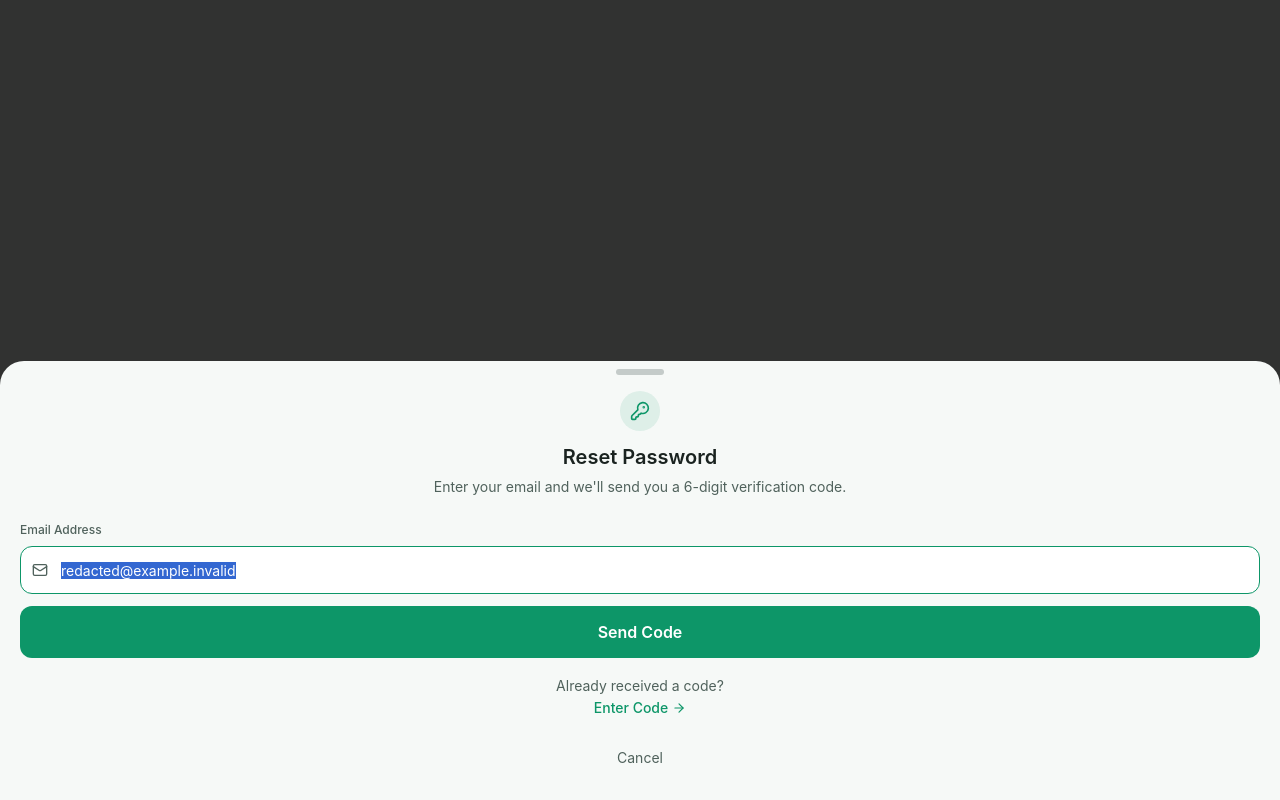
it: ForgotPasswordDialog — initial Send Code › advances to the code step and starts the cooldown on success
Click the button "Send Code".
click(640, 632)  # box [20,606,1260,658]
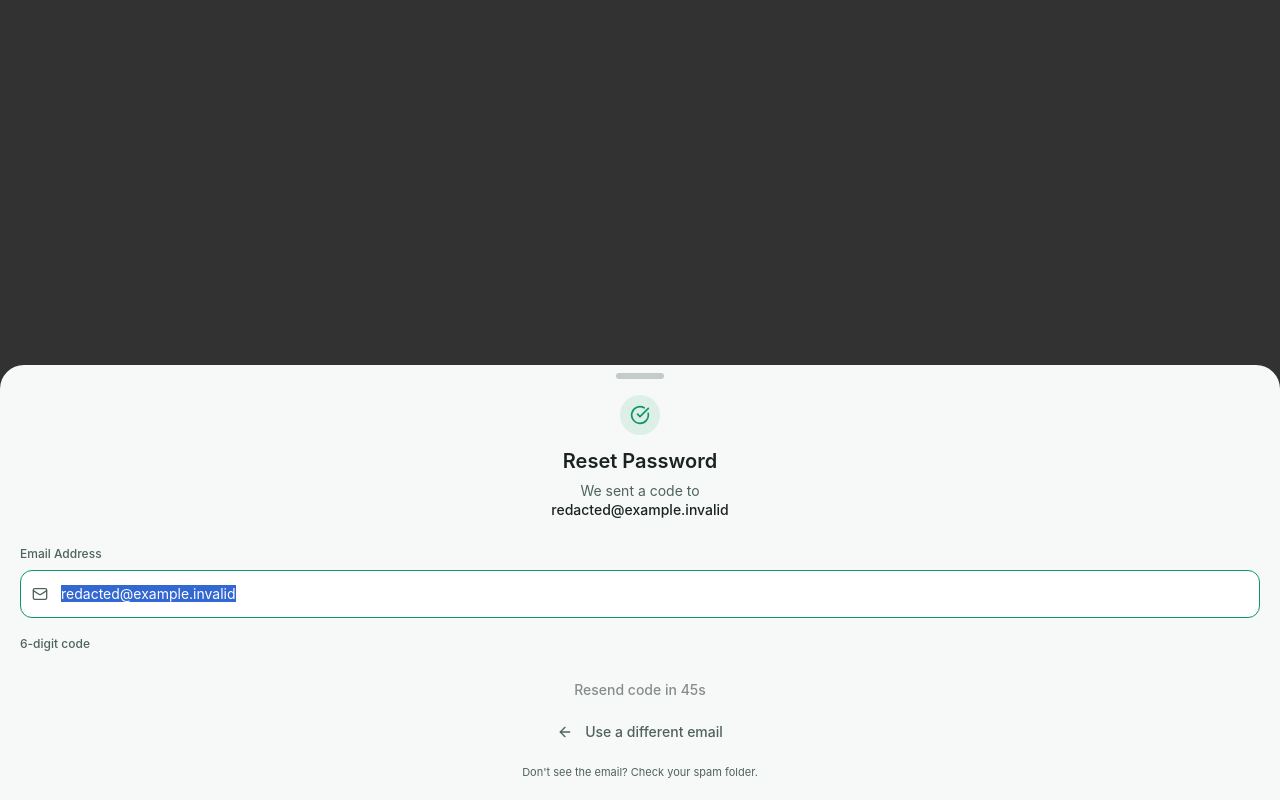
Expected: the text "6-digit code" is shown, [20,636,90,650]
Expected: the button "Resend code in 45s" is shown, [562,670,718,710]
